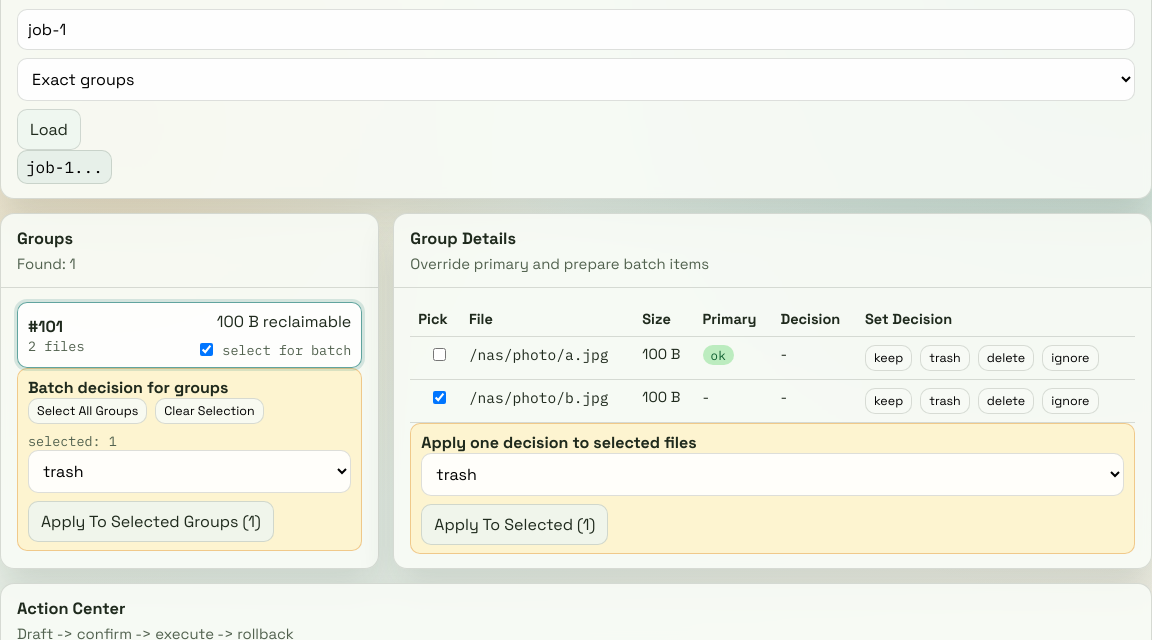
it: ReviewPage › saves decision and runs action batch workflow
Expected: the element with test id "group-list" is shown, [17, 302, 362, 368]
Expected: the element with test id "group-details-table" is shown, [410, 302, 1135, 423]
Click the button "keep" in the row of "/nas/photo/b.jpg" at (889, 401), box [865, 388, 912, 414]
(page scrolled)
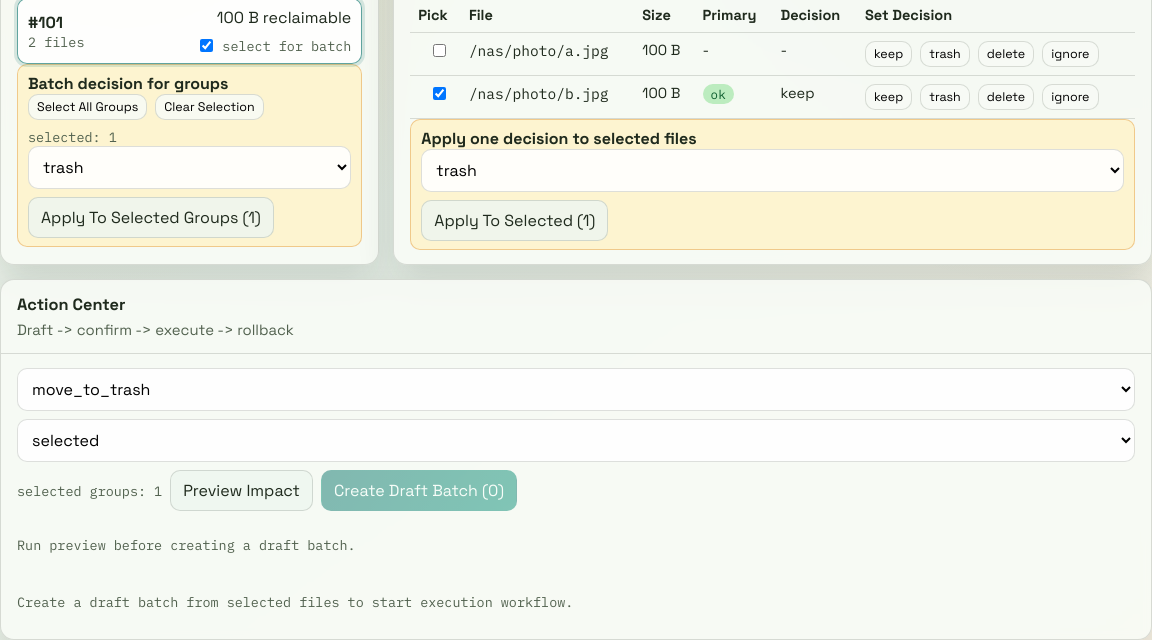
Expected: the element with test id "group-details-table" shows "keep", [865, 41, 912, 67]
Click the button "Preview Impact" at (242, 490), box [170, 470, 313, 511]
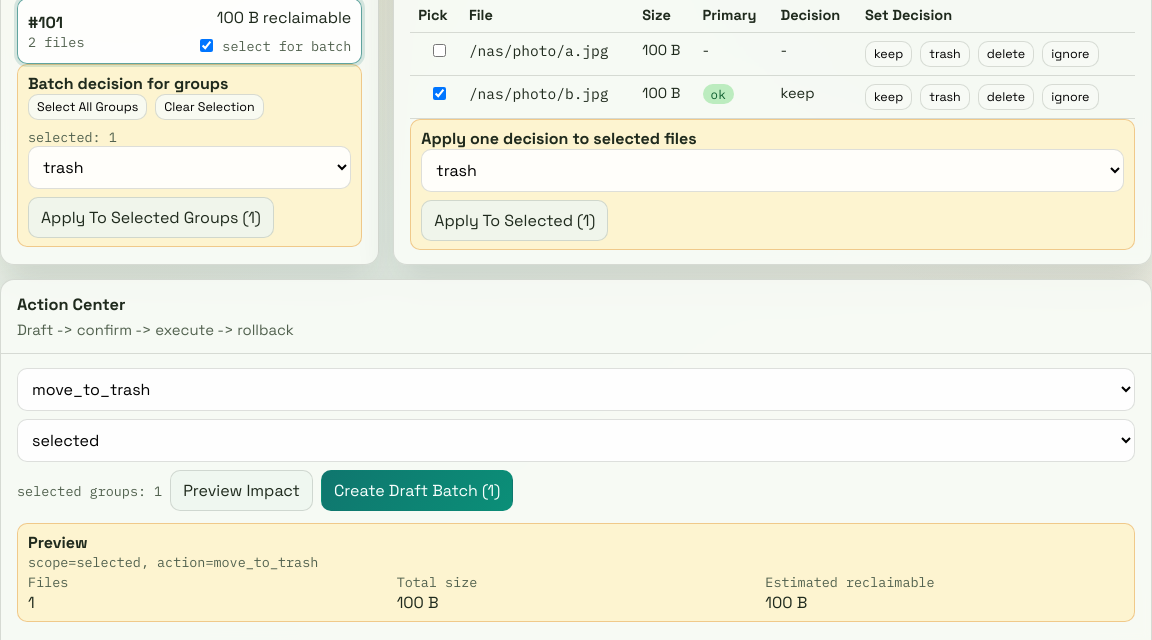
Expected: the element with test id "action-preview-card" is shown, [17, 523, 1135, 622]
Click the button "Create Draft Batch (1)" at (417, 490), box [321, 470, 513, 511]
(page scrolled)
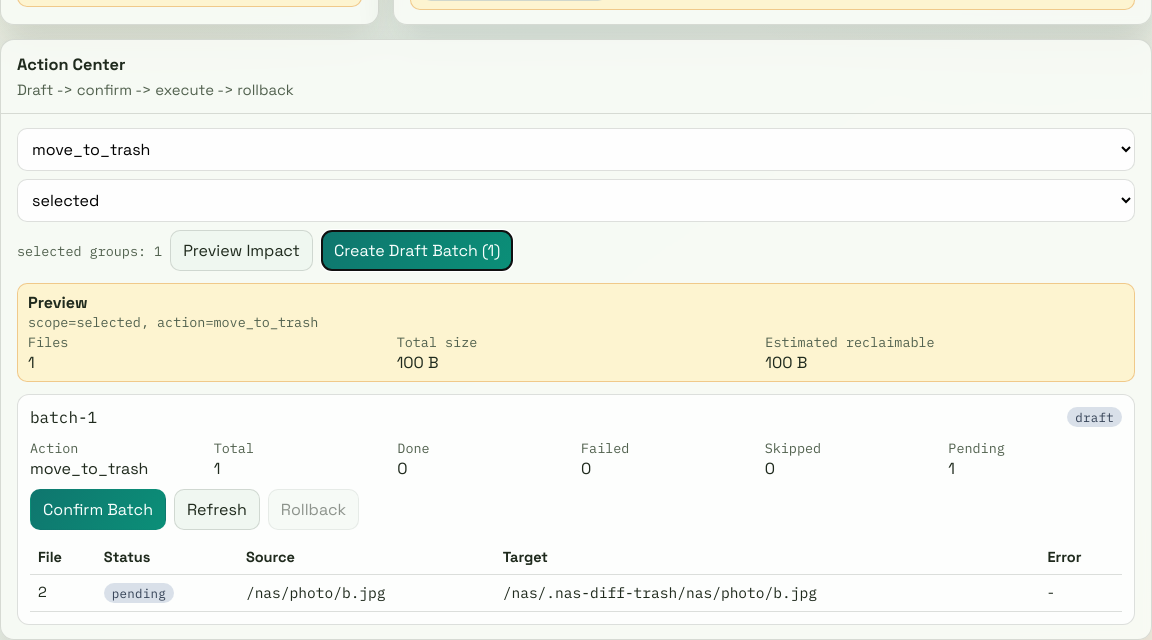
Expected: the element with test id "batch-card" is shown, [17, 394, 1135, 625]
Click the button "Confirm Batch" at (98, 510), box [30, 489, 166, 530]
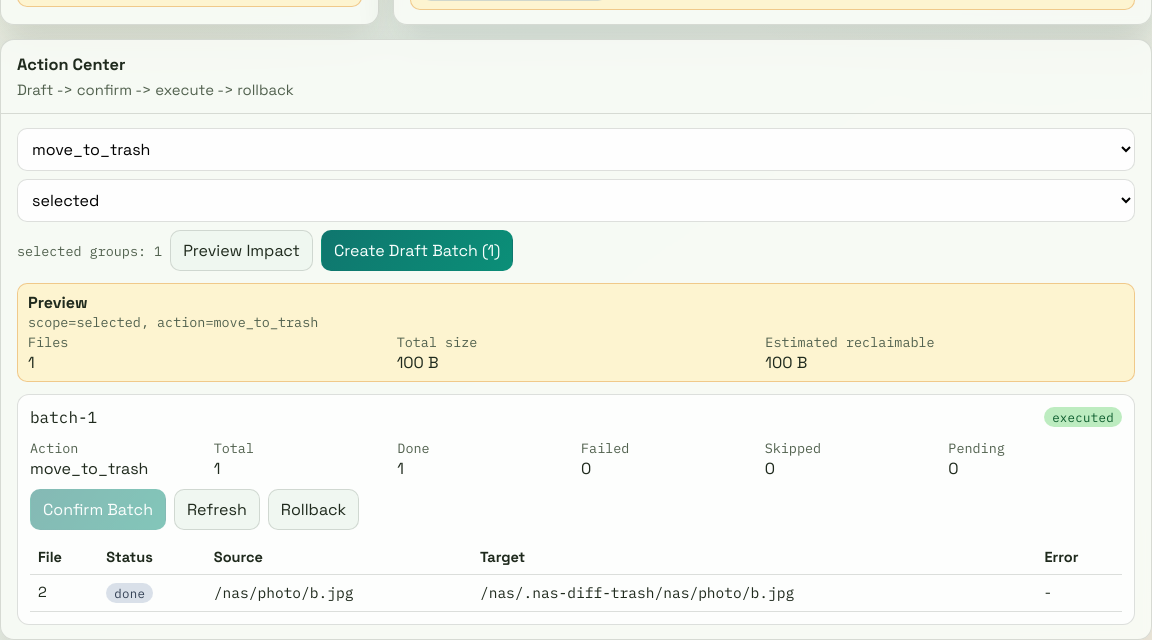
Expected: the element with test id "batch-card" shows "Done", [397, 439, 430, 457]
Expected: the element with test id "batch-card" shows "executed", [1052, 409, 1114, 425]
